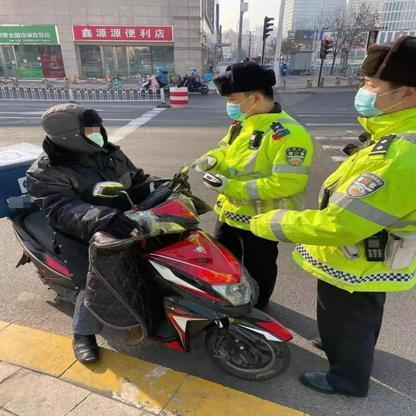target: (4, 103, 292, 380)
